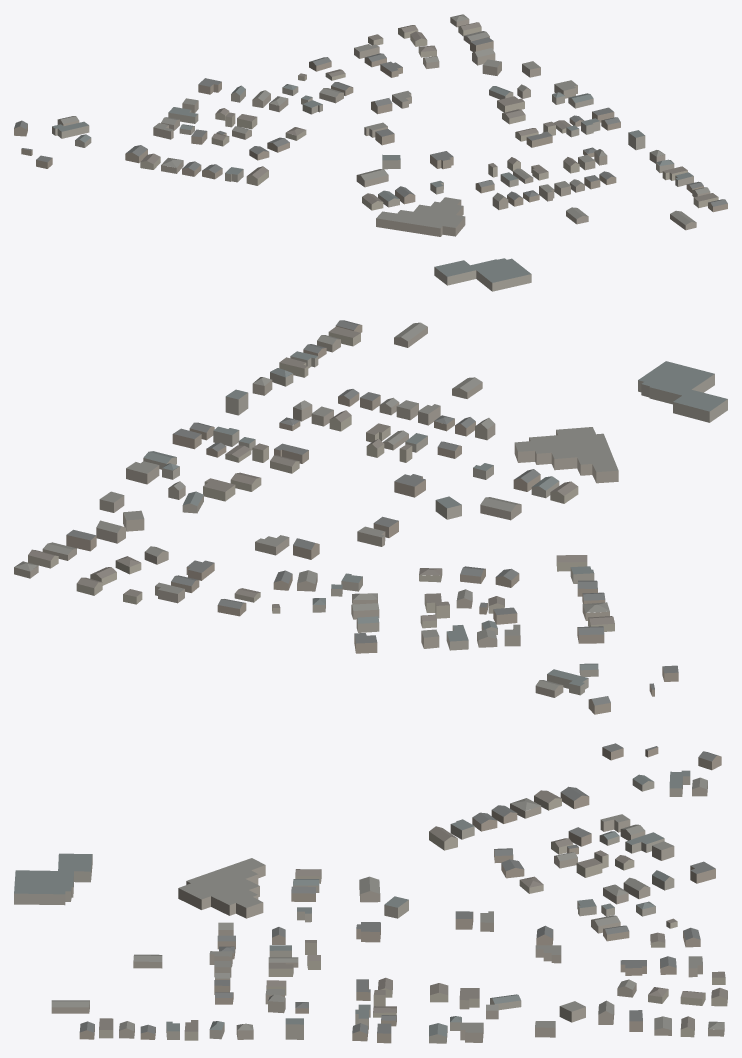
Rendered from 96d27640ac54-chunk-1198_11839.glb.
The picture shows the model from 3 angles, top to bottom: view 1: azimuth 30°, elevation 25°; view 2: azimuth 150°, elevation 25°; view 3: azimuth 270°, elevation 25°; orthographic projection. The views are drawn at different scales.
Visible parts, largest first — view 1: building_97719, building_29415, building_40188; view 2: building_97719, building_29415, building_163734, building_40188; view 3: building_97719, building_29415, building_12659, building_35792, building_163734, building_85294, building_40018, building_22311.
Part boxes in pixels (<box>): building_97719: <box>376,197,465,236</box>; building_29415: <box>434,258,531,291</box>; building_40188: <box>52,121,89,138</box>; building_97719: <box>514,427,618,483</box>; building_29415: <box>638,361,727,422</box>; building_163734: <box>480,497,521,520</box>; building_40188: <box>547,669,588,695</box>; building_97719: <box>178,858,265,918</box>; building_29415: <box>14,853,92,905</box>; building_12659: <box>51,1000,89,1013</box>; building_35792: <box>625,832,664,853</box>; building_163734: <box>359,876,380,902</box>; building_85294: <box>356,922,380,942</box>; building_40018: <box>429,826,457,850</box>; building_22311: <box>460,1022,483,1042</box>.
Size of the model in its own units: 388 by 9.66 by 401.
